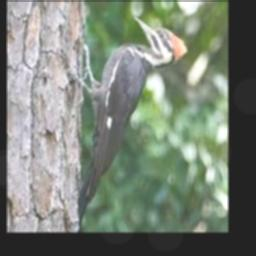Woodpecker: (76, 17, 189, 230)
